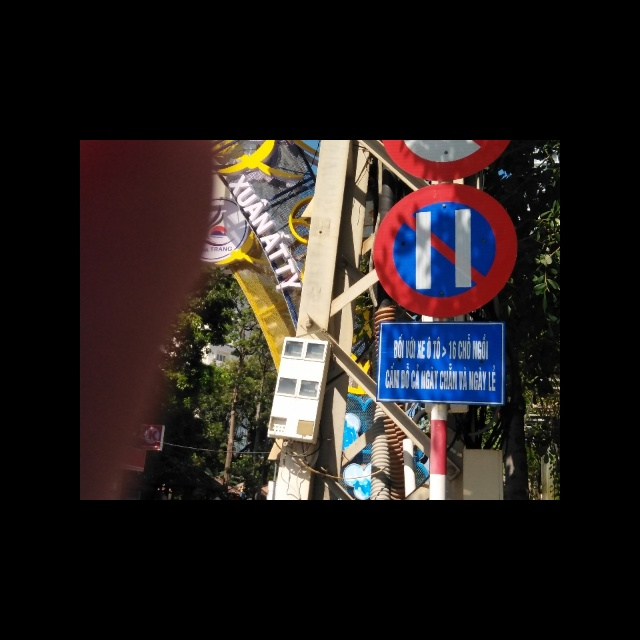Cấm đỗ xe ngày chẵn: (372, 179, 518, 320)
